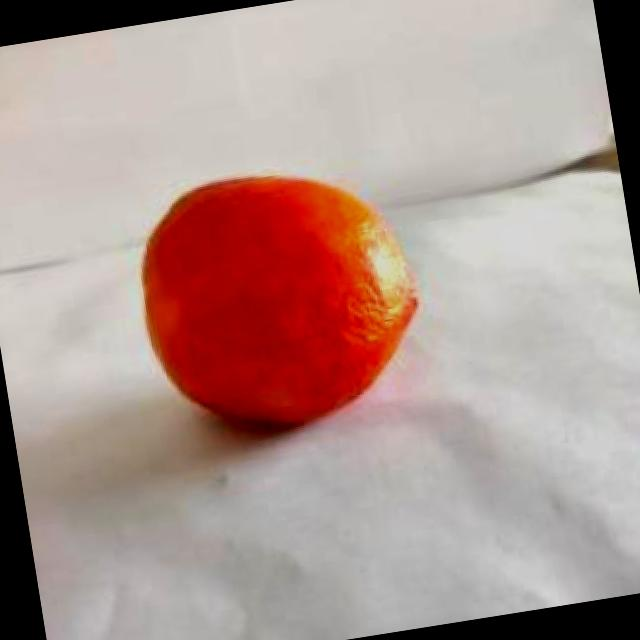Rotten_Tomato: (115, 143, 443, 451)
